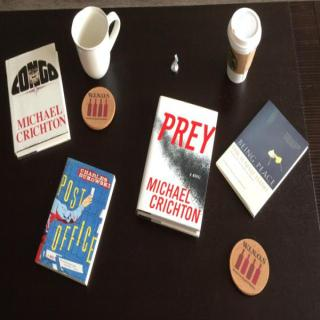book-spine: (134, 101, 218, 242), (32, 158, 118, 288), (220, 99, 313, 216), (5, 44, 70, 158)
